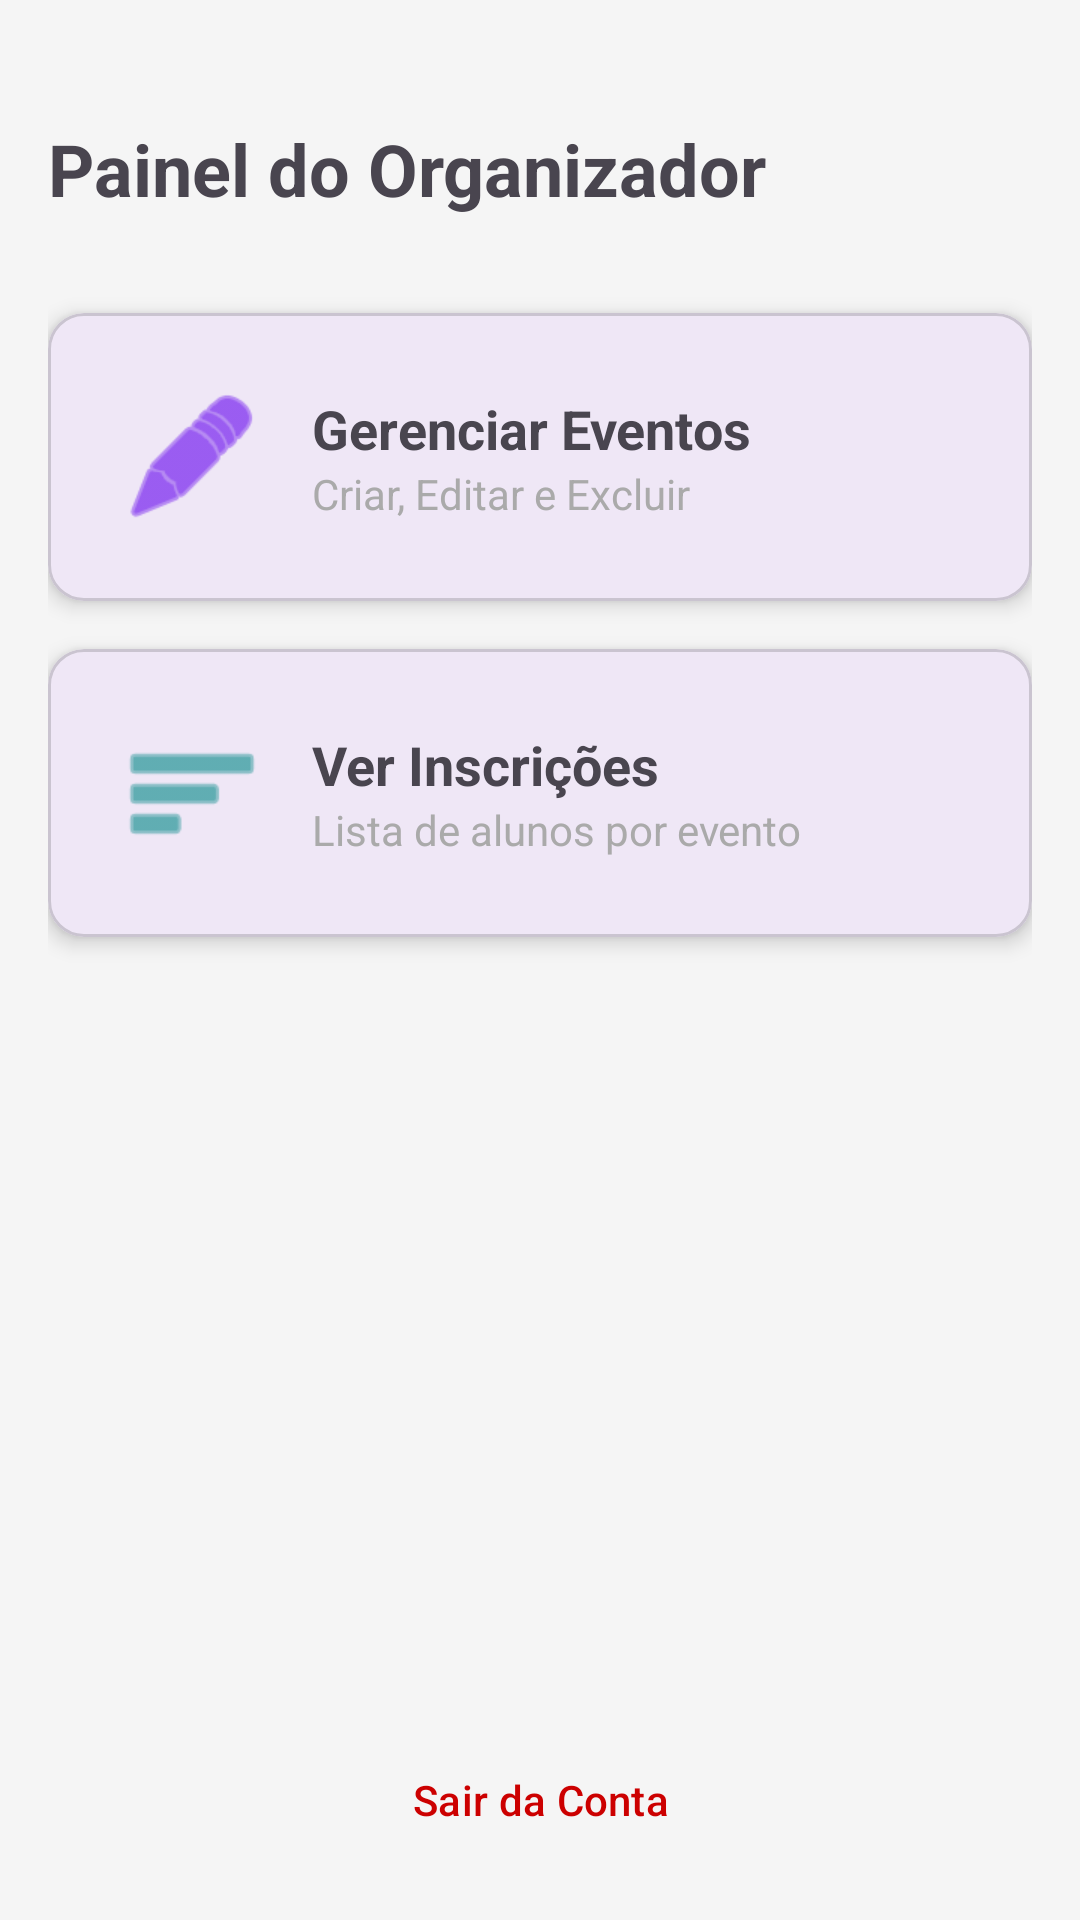

Icons on this 1080 × 1920 Android screen, each with its box as box(x1, y1, x2, y2):
sort by size: box(130, 753, 254, 834)
